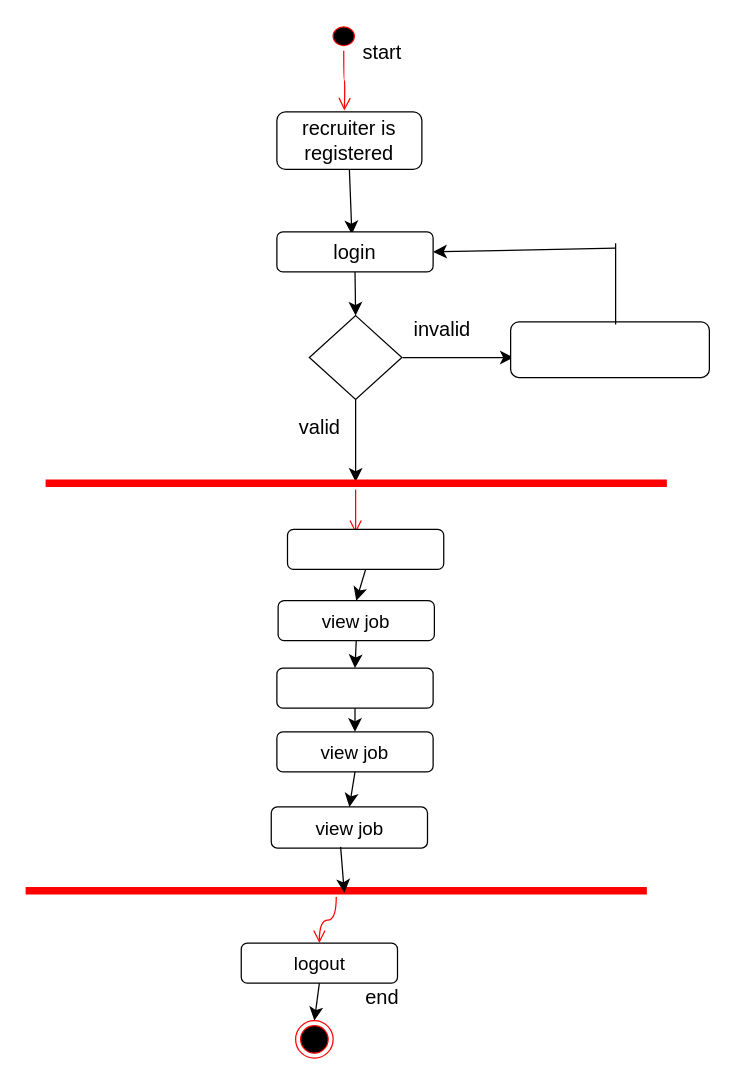
The diagram is 731 pixels wide and 1080 high, and some of its shapes have lost their labels. Here are the shapes that lost their labels. From the top down, the centre of each, then its label:
At (x=609, y=349): "Re-entered username and password".
At (x=365, y=548): "recruiter".
At (x=354, y=687): "Delete job".
